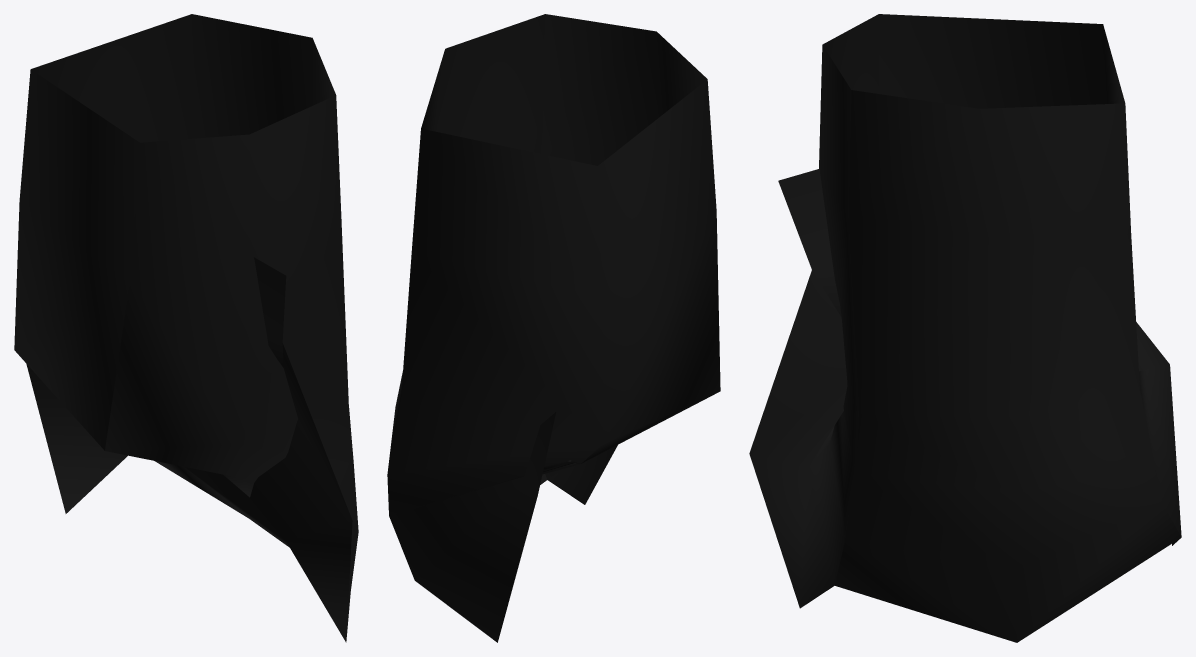
Rendered from right_arm.glb.
The picture shows the model from 3 angles, left to right: view 1: azimuth 30°, elevation 25°; view 2: azimuth 150°, elevation 25°; view 3: azimuth 270°, elevation 25°; orthographic projection. The views are drawn at different scales.
Parts seen in each view (by area): view 1: polo-black_RIGHT_ARM; view 2: polo-black_RIGHT_ARM; view 3: polo-black_RIGHT_ARM.
Boxes of the visible parts, x1=… form: polo-black_RIGHT_ARM: x1=14, y1=14, x2=358, y2=642; polo-black_RIGHT_ARM: x1=387, y1=14, x2=720, y2=642; polo-black_RIGHT_ARM: x1=749, y1=14, x2=1181, y2=642.
Bounding box in the file's own units: 0.1394 × 0.252 × 0.1856.
Materials: 1 (1 with a texture image).
